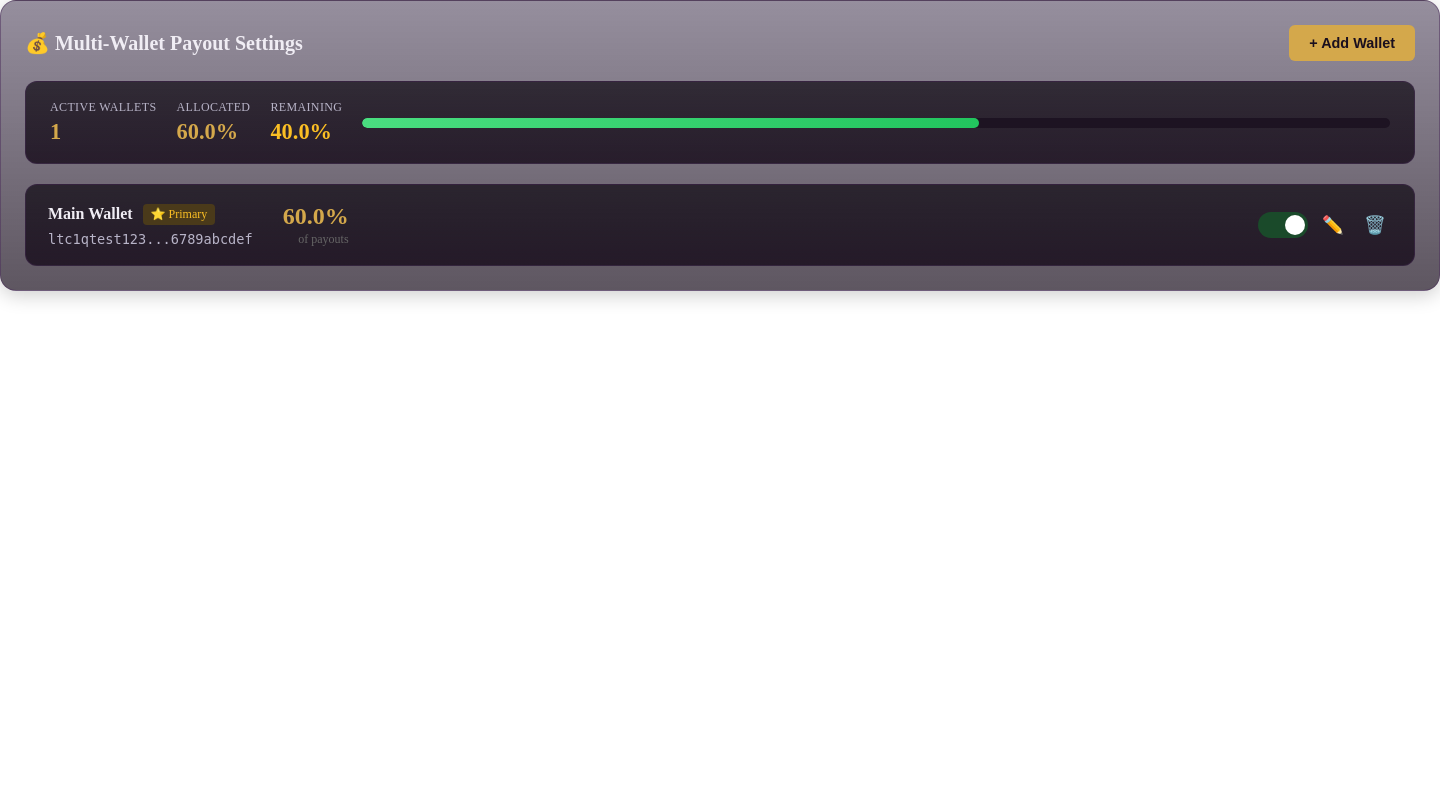
WalletManager › Add Wallet Button › opens add wallet form when button clicked
This screenshot has width=1440, height=810.
Click the button "+ Add Wallet" at [1352, 43], box [1289, 25, 1415, 61]
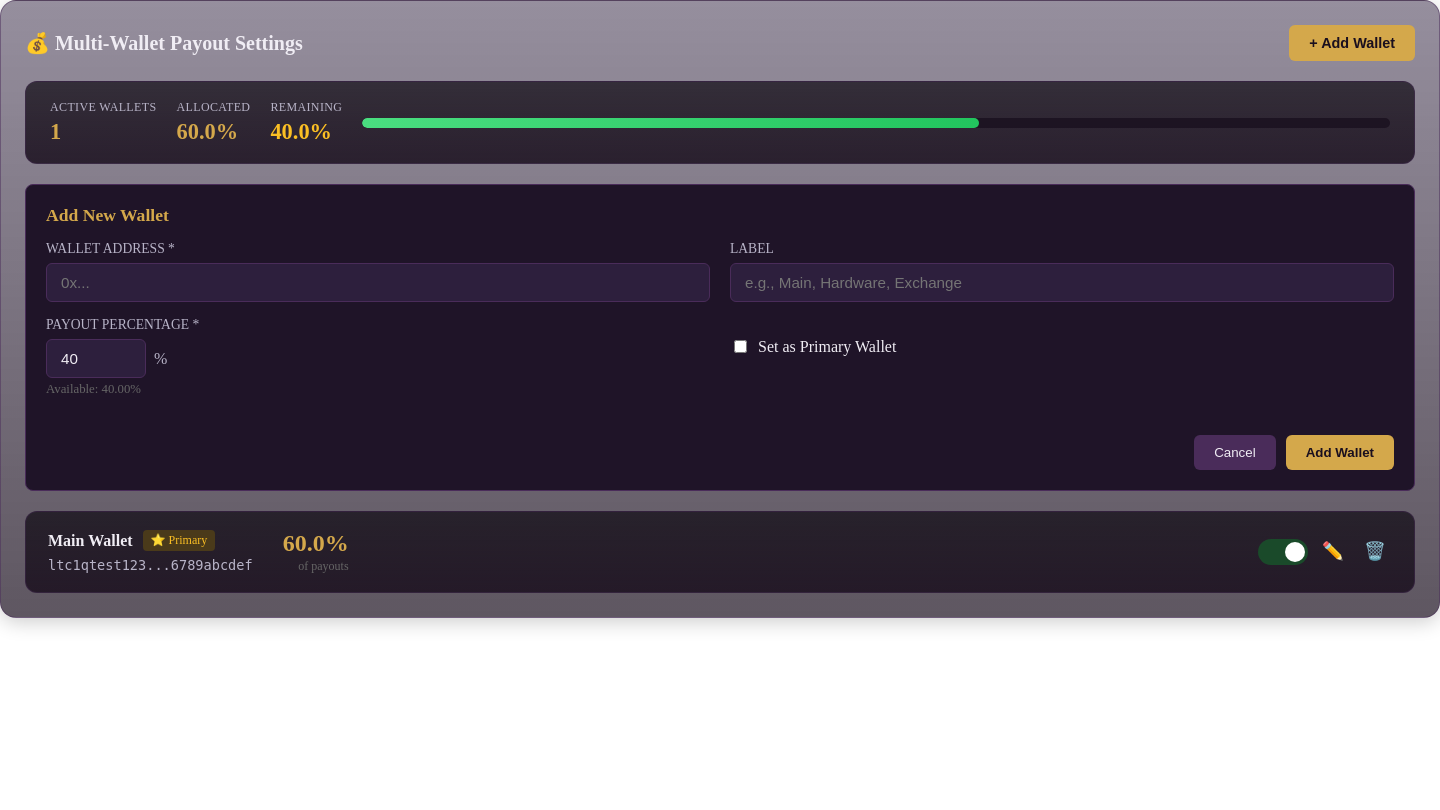
Expected: the heading "Add New Wallet" is shown, [46, 205, 169, 225]
Expected: the text "Wallet Address *" is shown, [46, 241, 175, 256]
